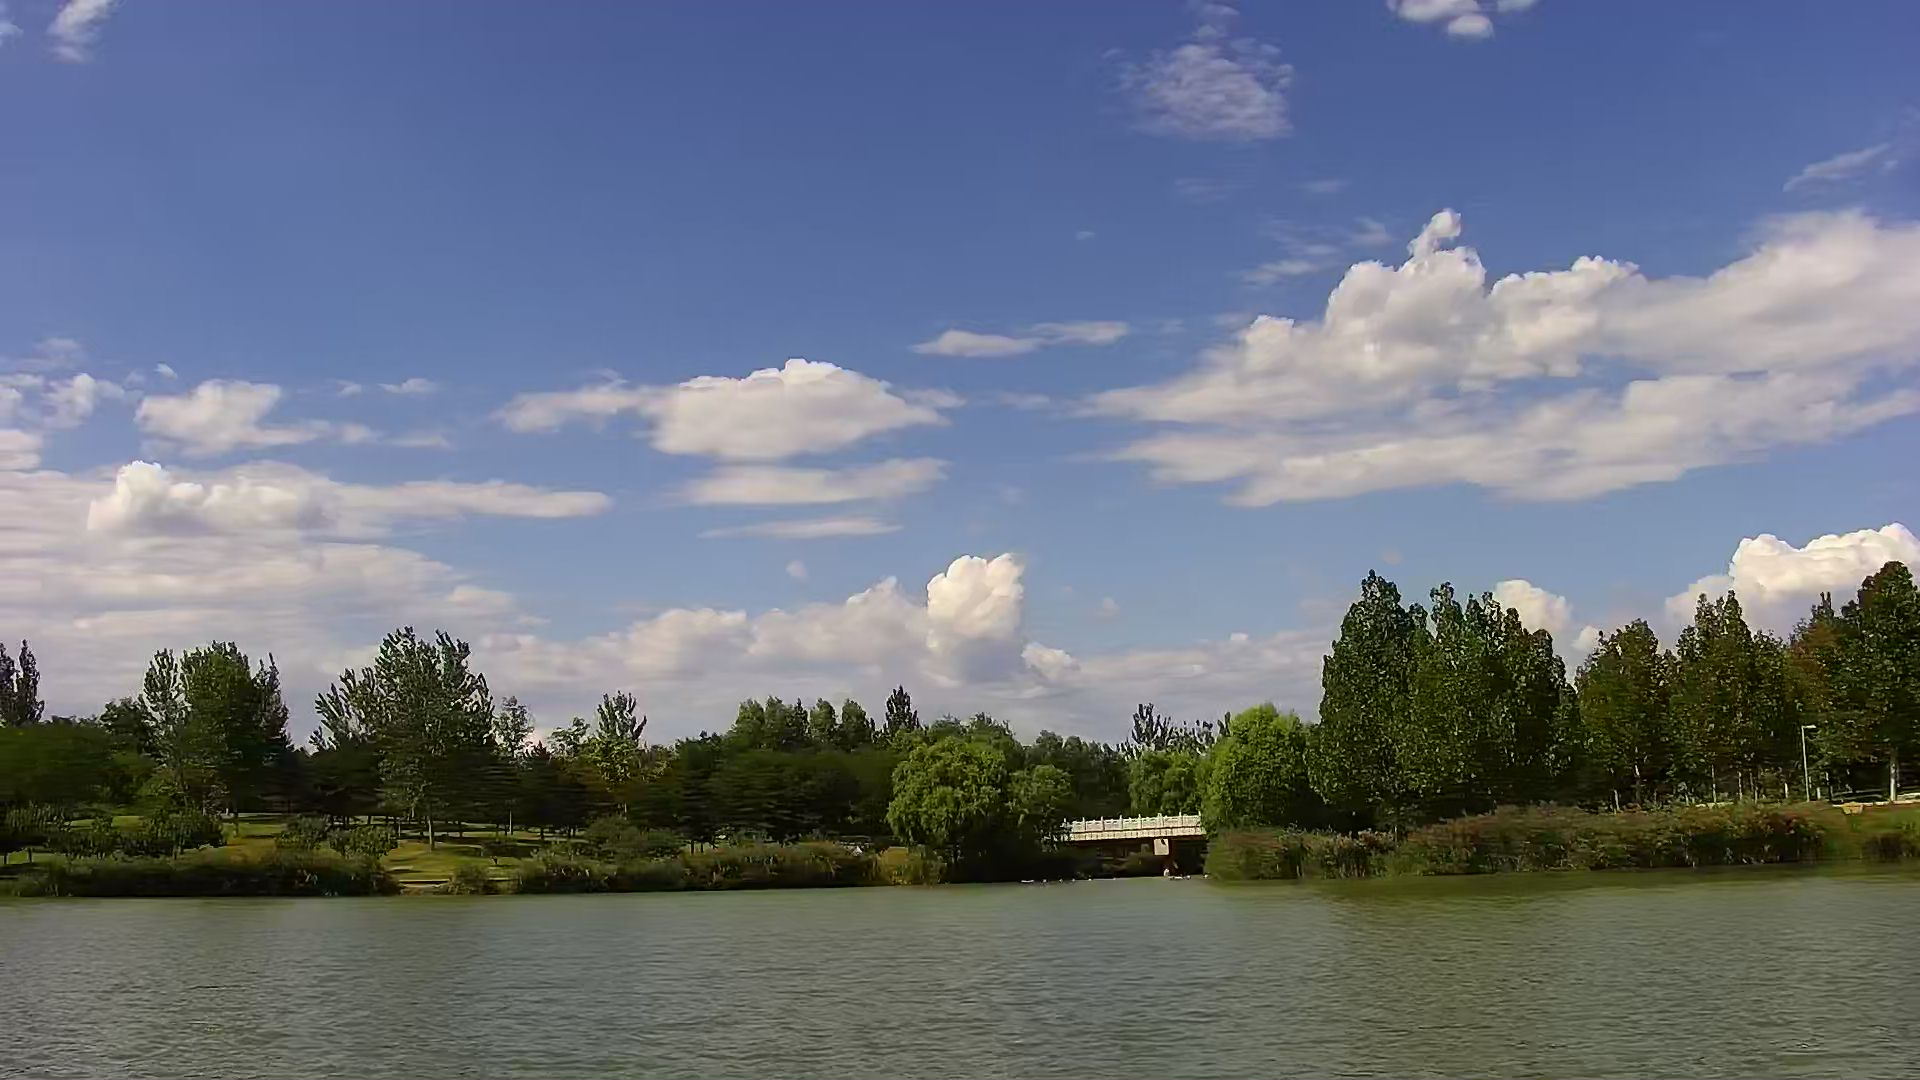bridge: (1069, 814, 1209, 881)
